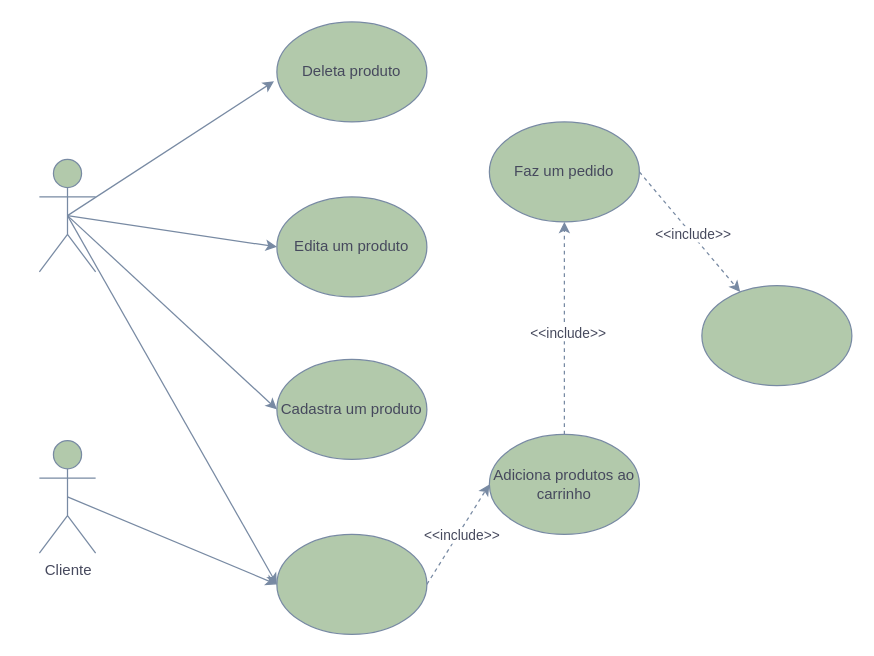
Some shapes in this 874 by 656 pixel diagram are drawn without their labels. Each missing label, with the centre of its shape:
Administrador: [67,215]
Consulta pedido: [776,335]
Ve o catalago de produtos: [351,583]
